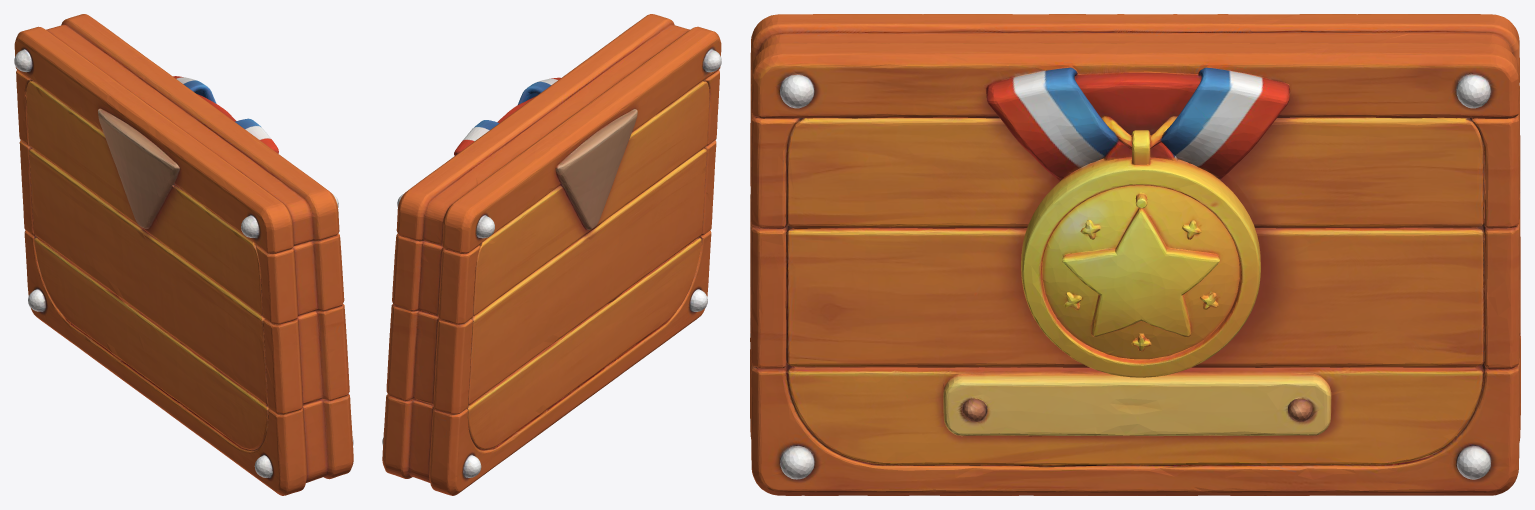
The model's file is sign_10.glb.
3 renders of one model, left to right at view 1: azimuth 30°, elevation 25°; view 2: azimuth 150°, elevation 25°; view 3: azimuth 270°, elevation 25°, orthographic. The views are drawn at different scales.
Visible parts, largest first — view 1: tripo_node_cb1b86b7-6061-4b5c-88d3-f97119a08506; view 2: tripo_node_cb1b86b7-6061-4b5c-88d3-f97119a08506; view 3: tripo_node_cb1b86b7-6061-4b5c-88d3-f97119a08506.
Boxes of the visible parts, x1,y1,x2,y2 form: tripo_node_cb1b86b7-6061-4b5c-88d3-f97119a08506: (14,14,353,495); tripo_node_cb1b86b7-6061-4b5c-88d3-f97119a08506: (382,14,721,495); tripo_node_cb1b86b7-6061-4b5c-88d3-f97119a08506: (750,14,1520,495).
Bounding box in the file's own units: 0.2943 × 0.629 × 1.
Materials: 1 (1 with a texture image).
